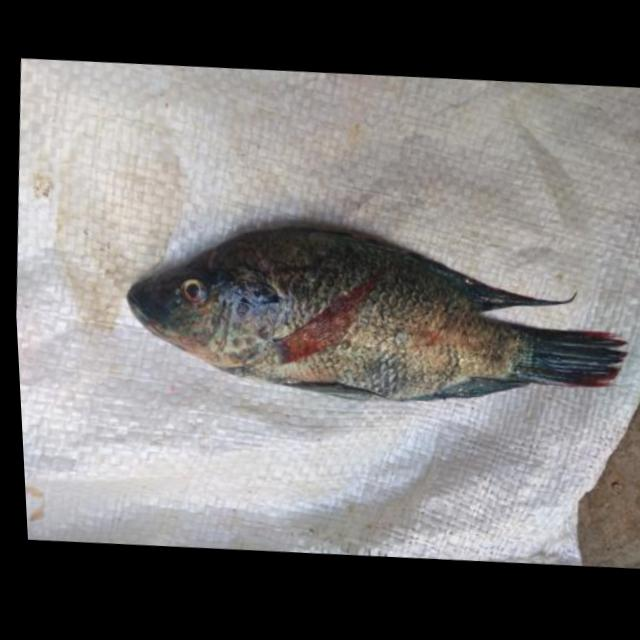Tilapia: (115, 202, 640, 424)
